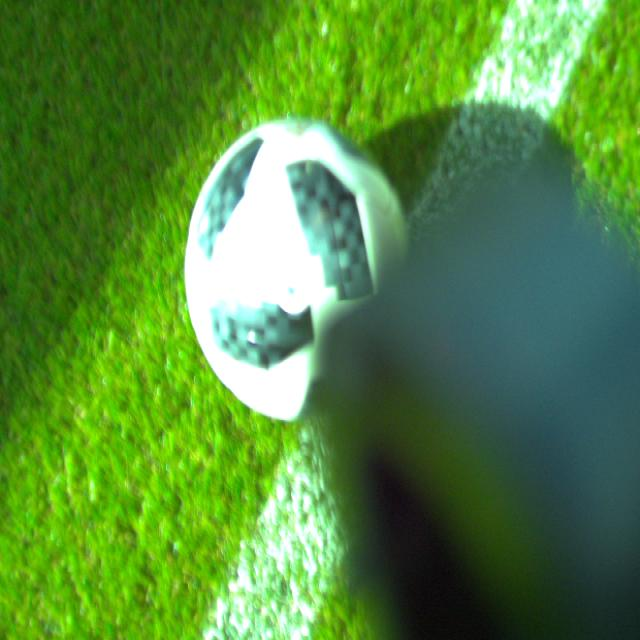ball: (187, 119, 407, 422)
